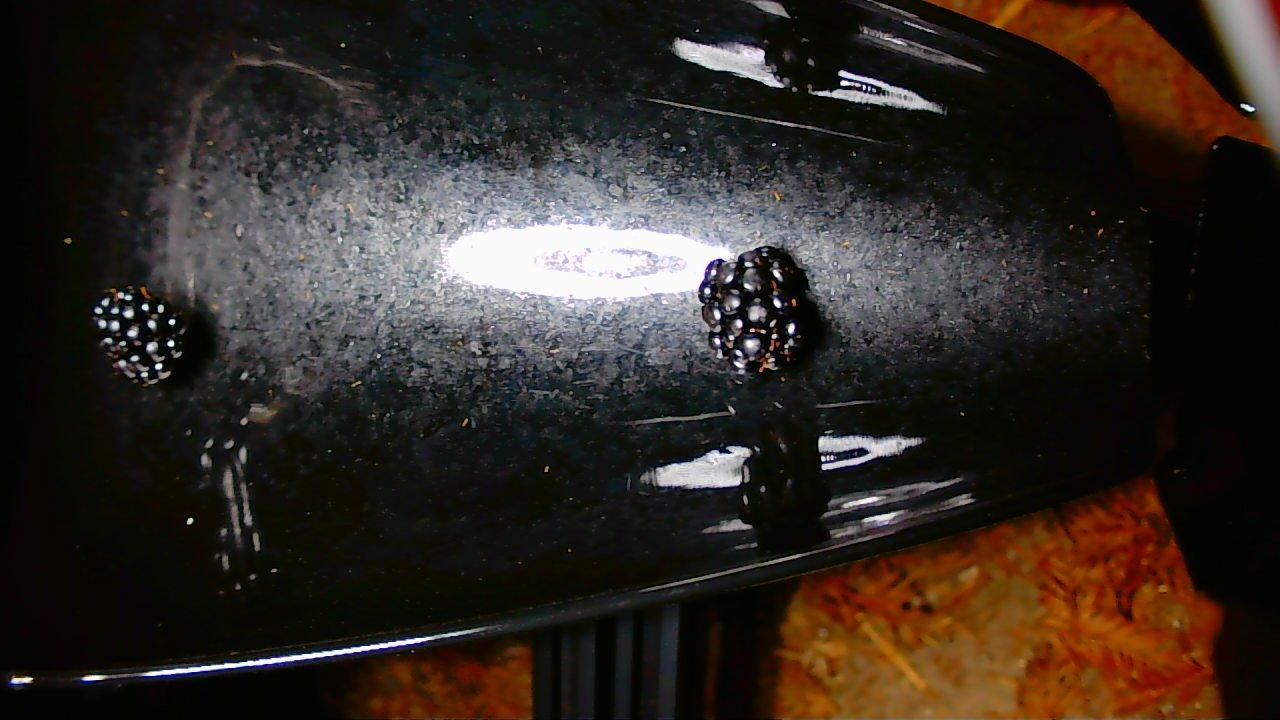berry: (698, 246, 807, 372), (92, 286, 186, 386)
